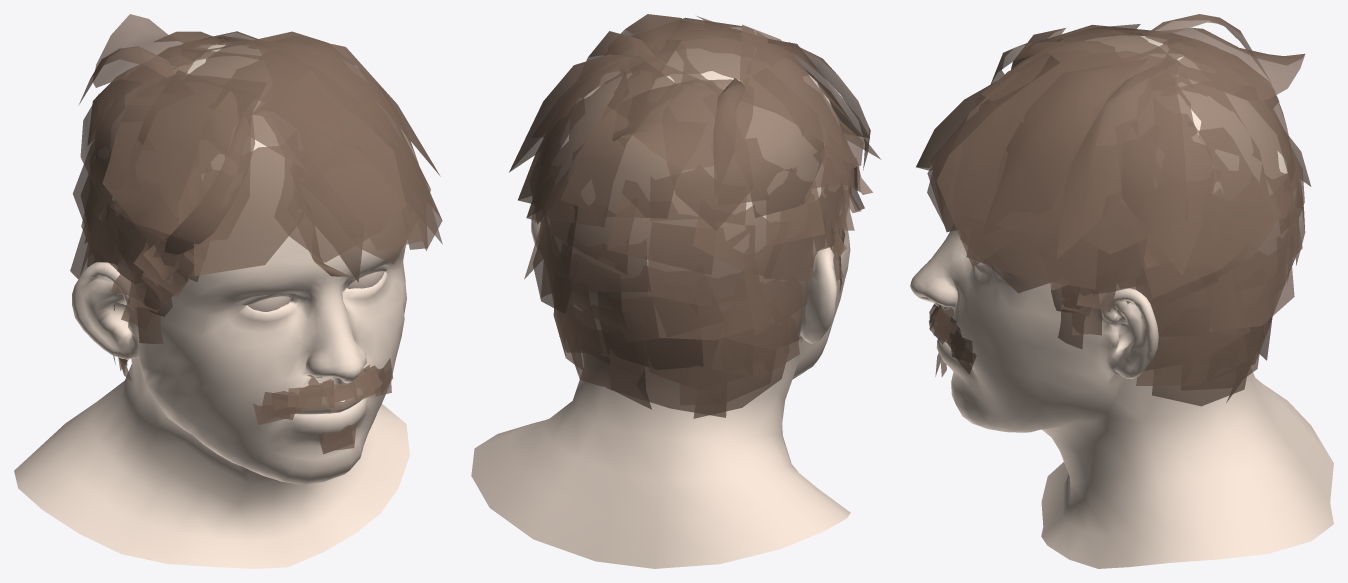
Rendered from maxime.glb.
The picture shows the model from 3 angles, left to right: view 1: azimuth 30°, elevation 25°; view 2: azimuth 150°, elevation 25°; view 3: azimuth 270°, elevation 25°; orthographic projection. The views are drawn at different scales.
Visible parts, largest first — view 1: Cube.002, Plane.030, Sphere; view 2: Plane.030, Cube.002; view 3: Plane.030, Cube.002.
Boxes of the visible parts, bbox=[...] form: Cube.002: bbox=[14, 42, 409, 568]; Plane.030: bbox=[70, 14, 442, 454]; Sphere: bbox=[247, 271, 384, 311]; Plane.030: bbox=[509, 14, 881, 418]; Cube.002: bbox=[471, 48, 850, 568]; Plane.030: bbox=[916, 14, 1311, 406]; Cube.002: bbox=[910, 35, 1333, 568].
Bounding box in the file's own units: 0.4982 × 0.6402 × 0.506.
